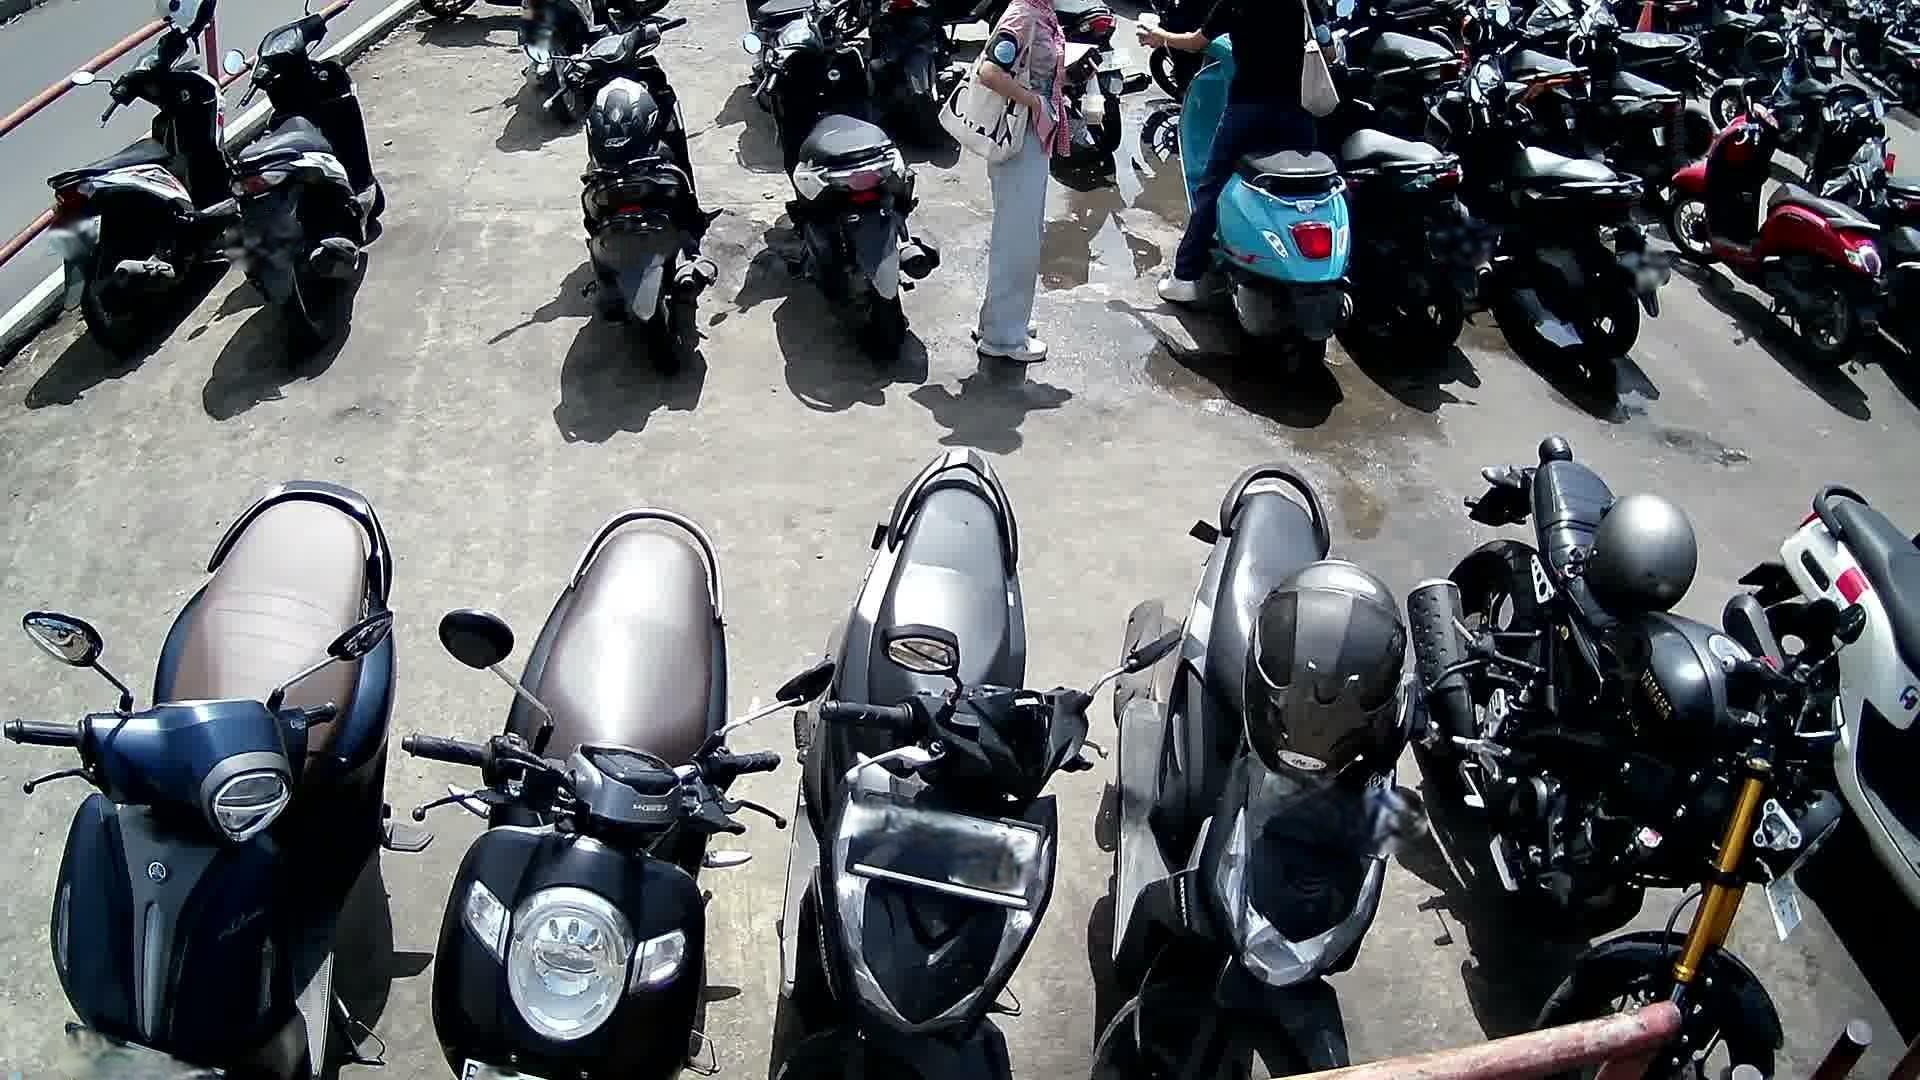motorcycle: (1408, 434, 1863, 1080), (0, 479, 434, 1079), (779, 446, 1176, 1080), (401, 510, 835, 1080), (1104, 459, 1497, 1080), (1726, 481, 1920, 953), (1424, 5, 1660, 364), (516, 11, 725, 373), (741, 8, 944, 365), (46, 18, 239, 367), (1178, 30, 1364, 389), (1671, 66, 1884, 369), (223, 0, 388, 357), (1338, 111, 1499, 364)
